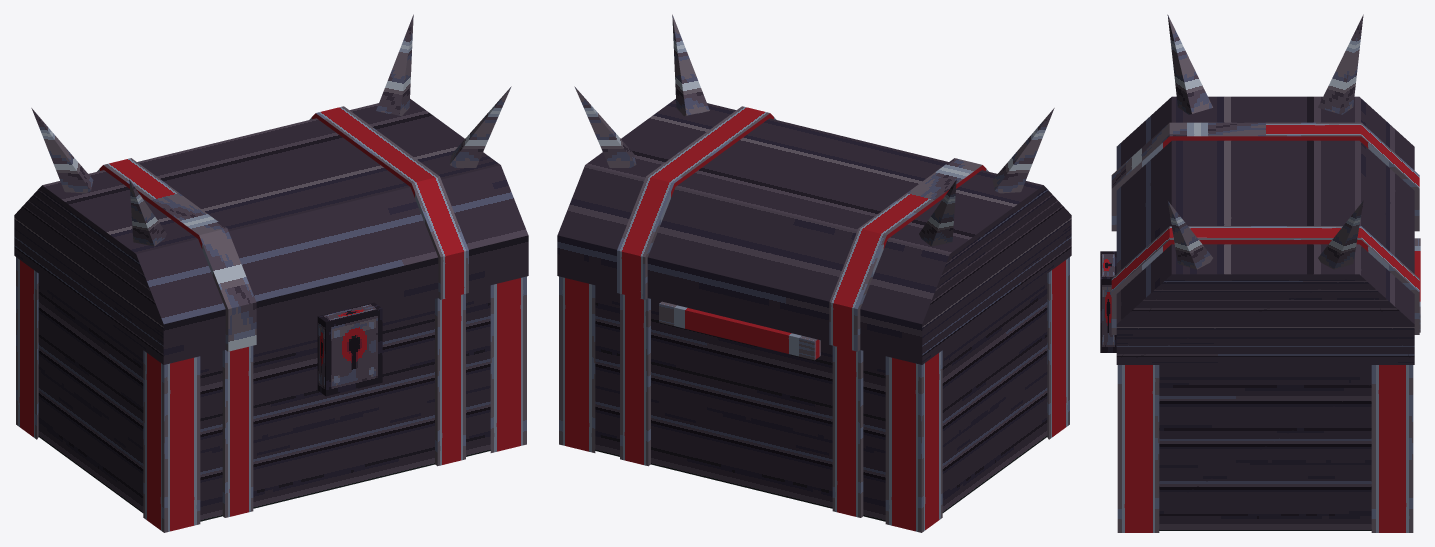
File: chest_vampire.glb
3 views of the same model, side by side, from view 1: azimuth 30°, elevation 25°; view 2: azimuth 150°, elevation 25°; view 3: azimuth 270°, elevation 25° (orthographic).
Visible parts, largest first — view 1: lid, base, lock; view 2: lid, base; view 3: lid, base, lock.
Boxes of the visible parts, x1,y1,x2,y2 form: lid: (14,14,528,364); base: (16,257,526,532); lock: (317,302,382,396); lid: (557,14,1071,364); base: (559,257,1069,532); lid: (1111,14,1419,364); base: (1117,238,1420,532); lock: (1100,251,1116,352).
Size of the model in its own units: 1.08 by 0.912 by 0.785.
Materials: 1 (1 with a texture image).
